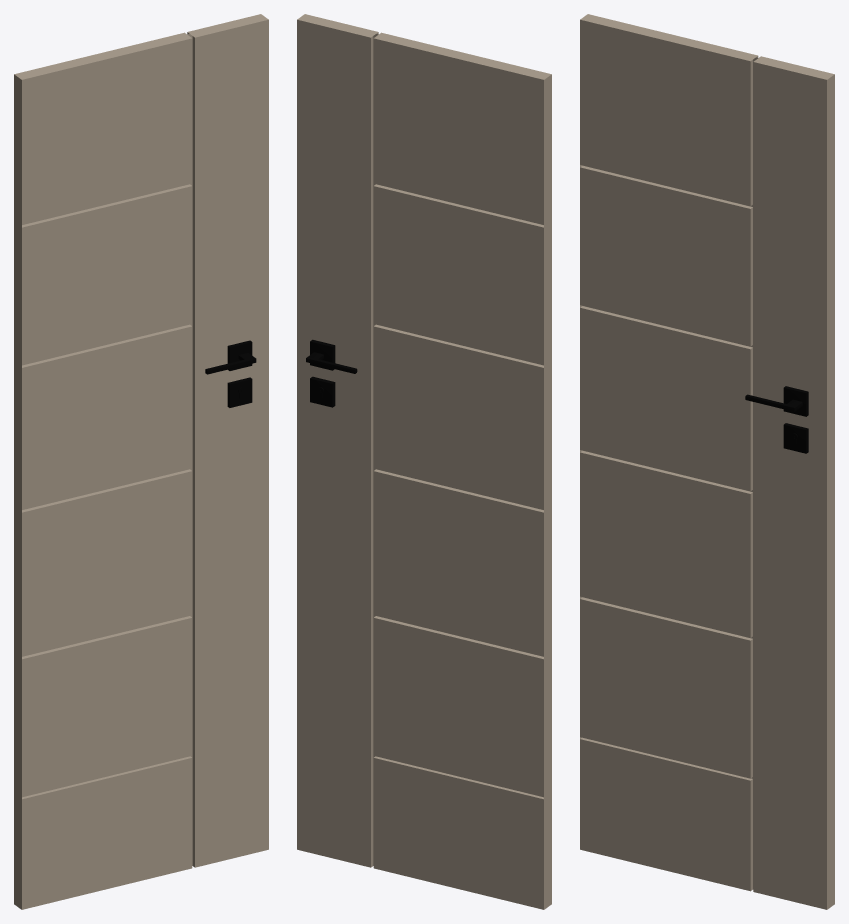
Rendered from SC_3_3a_door.glb.
The picture shows the model from 3 angles, left to right: view 1: azimuth 30°, elevation 25°; view 2: azimuth 150°, elevation 25°; view 3: azimuth 330°, elevation 25°; orthographic projection.
Visible parts, largest first — view 1: SC_3__3a_door_; view 2: SC_3__3a_door_; view 3: SC_3__3a_door_.
Boxes of the visible parts, bbox=[...] form: SC_3__3a_door_: bbox=[14, 14, 268, 909]; SC_3__3a_door_: bbox=[297, 14, 551, 909]; SC_3__3a_door_: bbox=[580, 14, 834, 909].
Bounding box in the file's own units: 0.5468 × 1.76 × 0.1089.
1 material, 1 textured.
